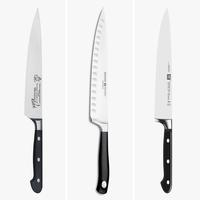knife: (148, 5, 192, 193), (80, 3, 119, 198), (22, 3, 61, 194)
